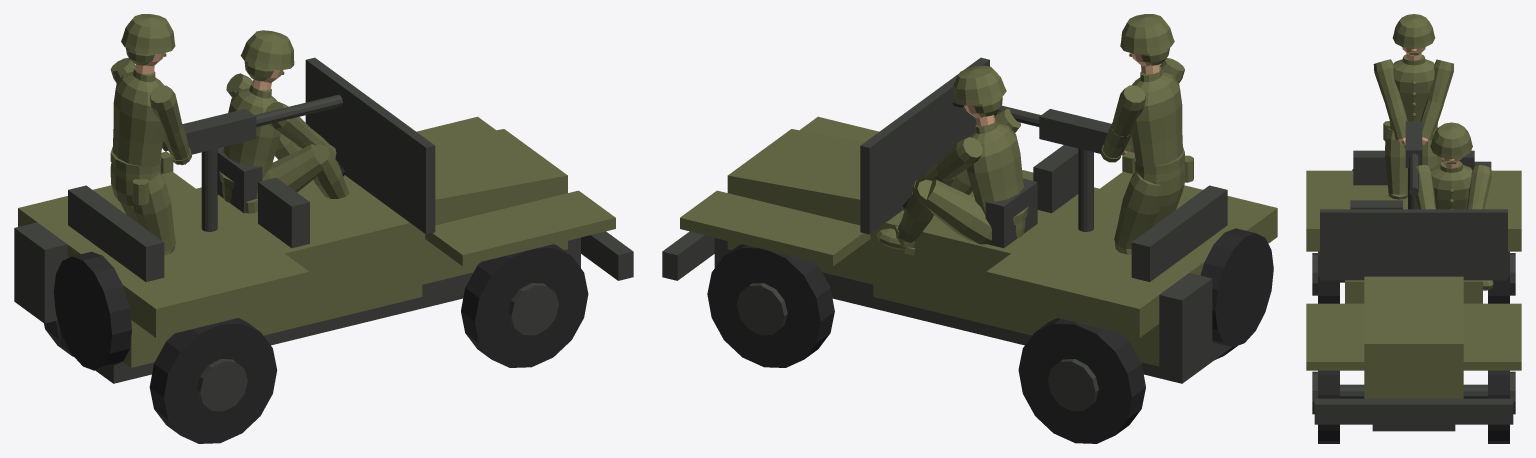
File: us_jeep_willys_mb.obj
The picture shows the model from 3 angles, left to right: view 1: azimuth 30°, elevation 25°; view 2: azimuth 150°, elevation 25°; view 3: azimuth 270°, elevation 25°; orthographic projection. The views are drawn at different scales.
Bounding box in the file's own units: 3.3 × 2.39 × 1.56.
